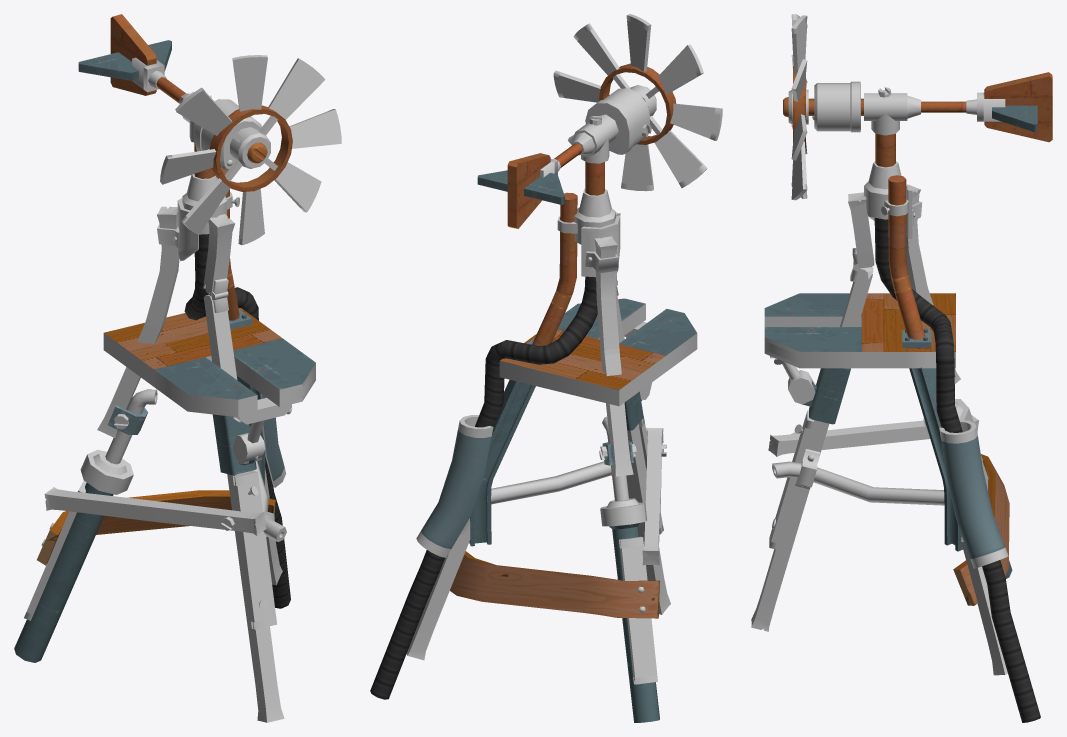
File: env_hideout_windmill.fbx
The picture shows the model from 3 angles, left to right: view 1: azimuth 30°, elevation 25°; view 2: azimuth 150°, elevation 25°; view 3: azimuth 270°, elevation 25°; orthographic projection. The views are drawn at different scales.
Visible parts, largest first — view 1: polySurface289; view 2: polySurface289; view 3: polySurface289.
Boxes of the visible parts, x1,y1,x2,y2 form: polySurface289: [14, 14, 341, 722]; polySurface289: [370, 14, 722, 722]; polySurface289: [751, 14, 1052, 722].
Bounding box in the file's own units: 26.77 × 59.5 × 25.72.
